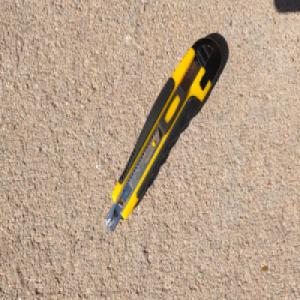Cutter: (104, 34, 223, 234)
